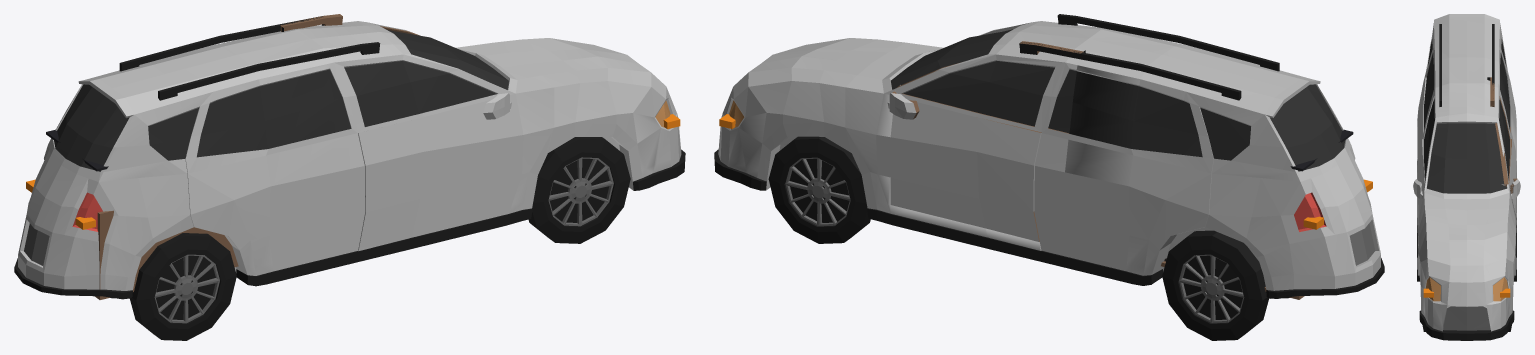
Rendered from suv.glb.
The picture shows the model from 3 angles, left to right: view 1: azimuth 30°, elevation 25°; view 2: azimuth 150°, elevation 25°; view 3: azimuth 270°, elevation 25°; orthographic projection. The views are drawn at different scales.
Parts seen in each view (by area): view 1: SUV_Cube, Wheels, Wheel.001, CarInterior, DriverDoor; view 2: SUV_Cube, DriverDoor, Wheels, Wheel; view 3: SUV_Cube, DriverDoor.
Boxes of the visible parts, left/top/right/bottom form: SUV_Cube: left=14, top=16, right=685, bottom=299; Wheels: left=110, top=233, right=236, bottom=340; Wheel.001: left=528, top=137, right=630, bottom=243; CarInterior: left=46, top=129, right=238, bottom=299; DriverDoor: left=280, top=14, right=419, bottom=35; SUV_Cube: left=714, top=14, right=1384, bottom=298; DriverDoor: left=890, top=41, right=1083, bottom=247; Wheels: left=1162, top=230, right=1289, bottom=340; Wheel: left=768, top=136, right=870, bottom=243; SUV_Cube: left=1413, top=14, right=1519, bottom=340; DriverDoor: left=1490, top=77, right=1520, bottom=227.
Bounding box in the file's own units: 3.53 × 1.28 × 0.74.
